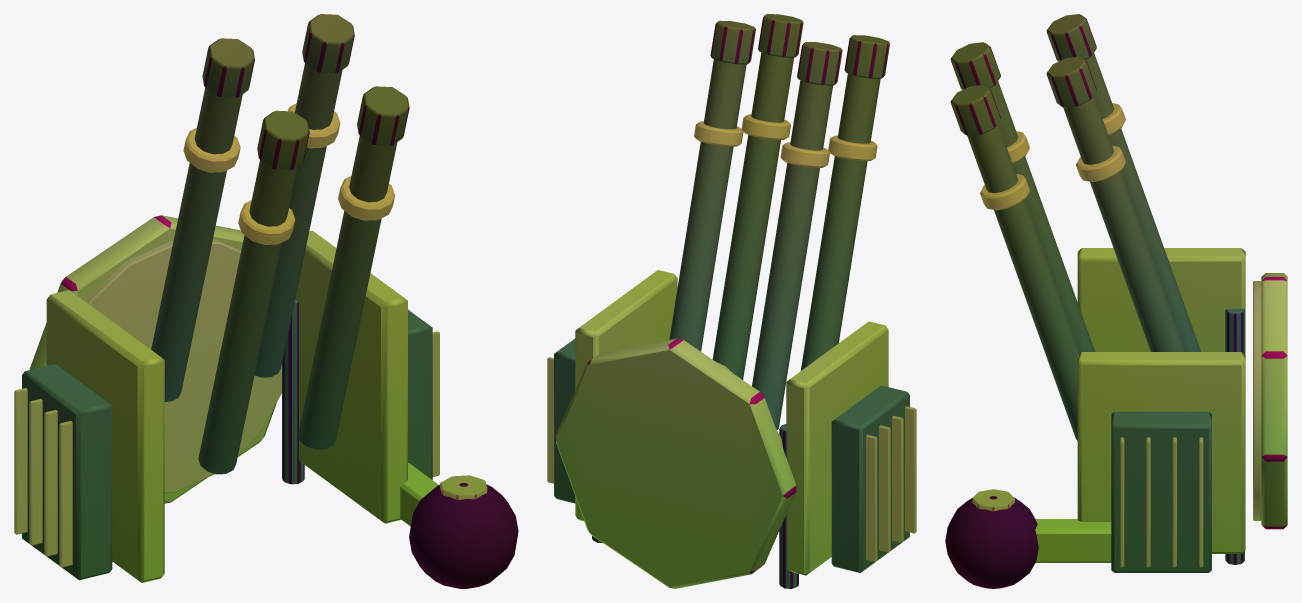
Rendered from RCLModule_skyguard_sam_solar_flare_radiation_shield_sponsons.fbx.
3 renders of one model, left to right at view 1: azimuth 30°, elevation 25°; view 2: azimuth 150°, elevation 25°; view 3: azimuth 270°, elevation 25°, orthographic. The views are drawn at different scales.
Parts seen in each view (by area): view 1: RCLModule_skyguard_sam_solar_flare_radiation_shield_sponsons (×3); view 2: RCLModule_skyguard_sam_solar_flare_radiation_shield_sponsons (×3); view 3: RCLModule_skyguard_sam_solar_flare_radiation_shield_sponsons (×3).
Part boxes in pixels (x1,y1,x2,y2): RCLModule_skyguard_sam_solar_flare_radiation_shield_sponsons (×3): [14, 14, 518, 588]; RCLModule_skyguard_sam_solar_flare_radiation_shield_sponsons (×3): [547, 14, 916, 588]; RCLModule_skyguard_sam_solar_flare_radiation_shield_sponsons (×3): [945, 14, 1287, 588].
Size of the model in its own units: 36.5 by 50.96 by 32.6.
